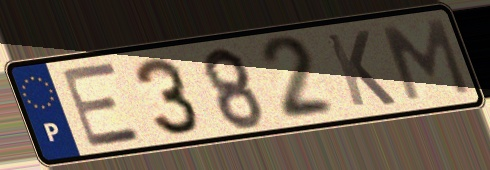2: (257, 33, 340, 126)
3: (132, 54, 203, 138)
8: (198, 42, 267, 132)
E: (57, 59, 147, 150)
K: (321, 28, 400, 110)
M: (377, 16, 474, 104)
